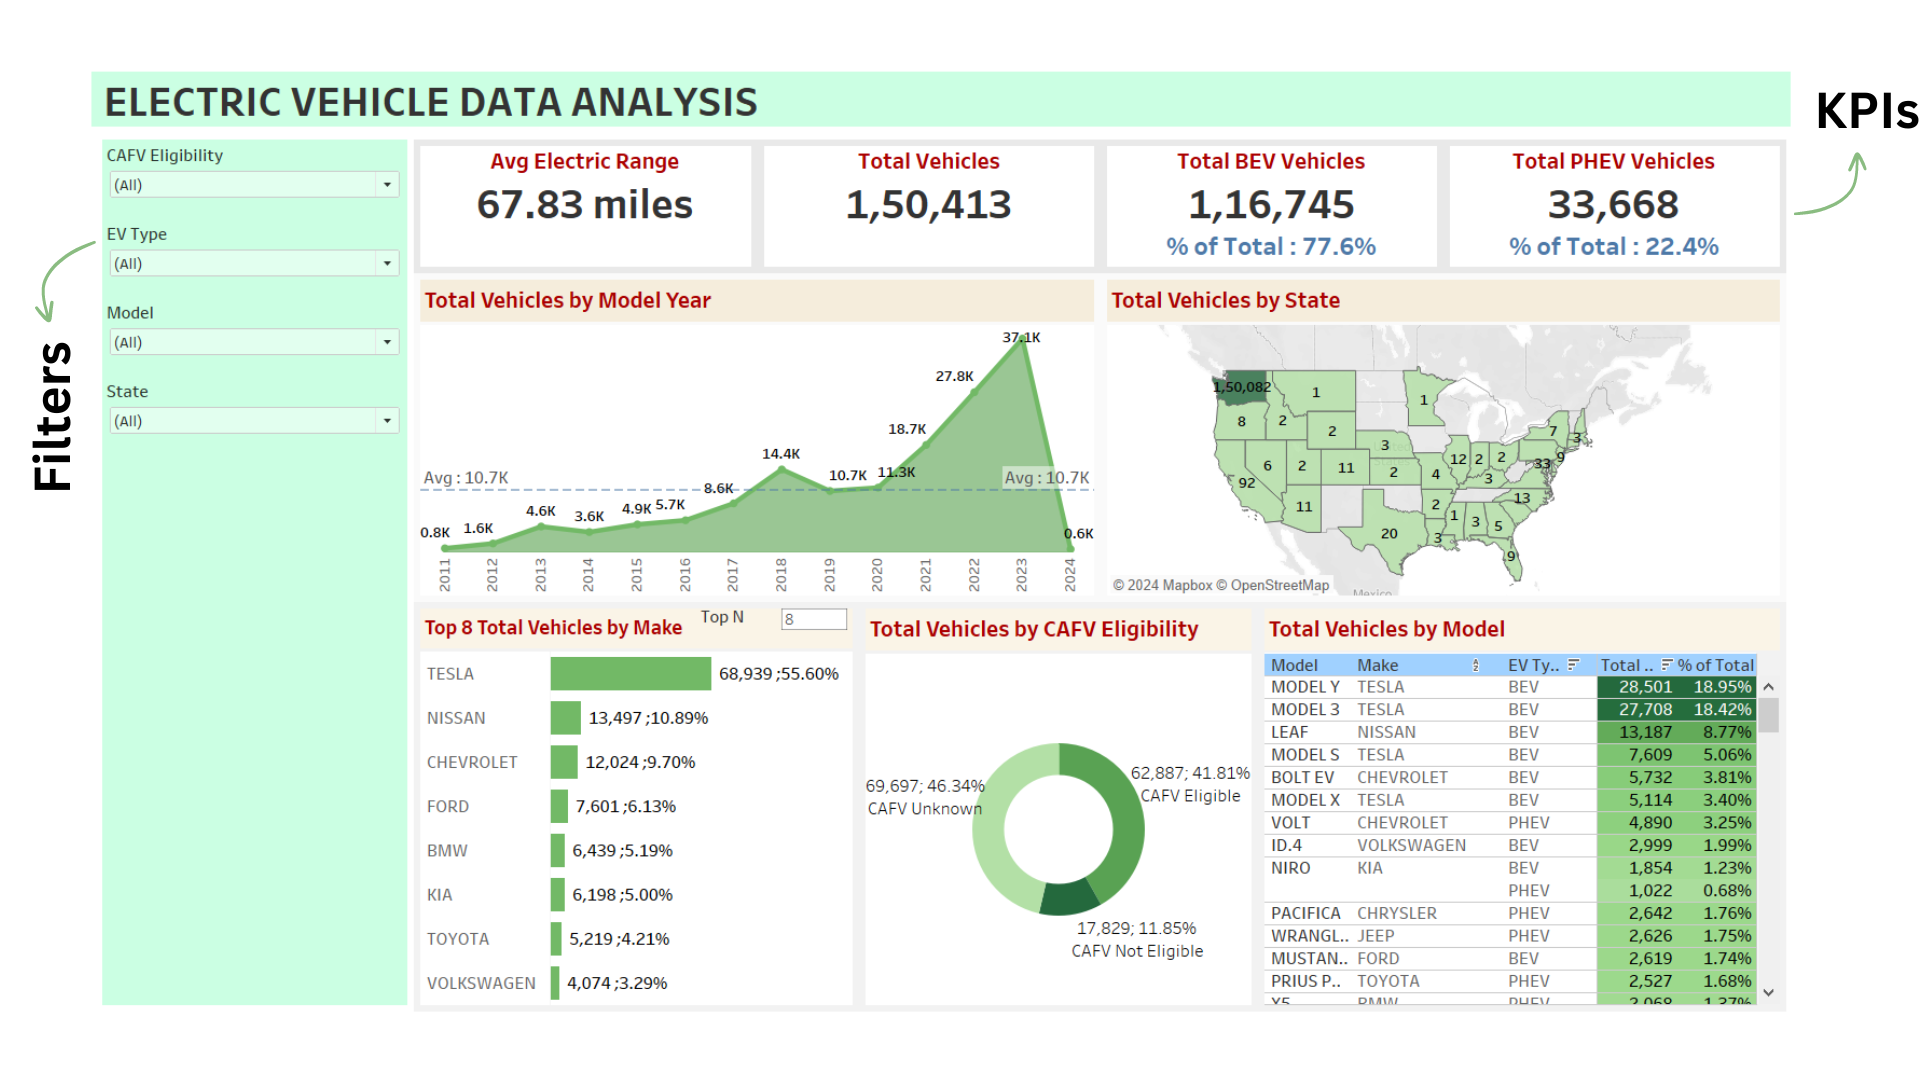

The page's visual inventory and layout, read from the dashboard file:
{"tool":"tableau","page":{"name":"Dashboard 1","canvas":[1600,900],"ordinal":0},"visuals":[{"type":"title","box":[8,8,1584,59.2]},{"type":"filter","title":"Total Vehicles by Model Year","param":"[federated.1awhdub1da7tum1af50ky1ltuime].[none:Clean Alternative Fuel Vehicle (C","box":[22,75,283,73]},{"type":"worksheet","title":"Avg Electric Range","mark":"Automatic","box":[311,75,319,124]},{"type":"worksheet","title":"Total Vehicles","mark":"Automatic","box":[630,75,318,124]},{"type":"worksheet","title":"Total BEV Vehicles","mark":"Automatic","box":[948,75,318,124]},{"type":"worksheet","title":"Total PHEV Vehicles","mark":"Automatic","box":[1266,75,318,124]},{"type":"filter","title":"Total Vehicles by Model Year","param":"[federated.1awhdub1da7tum1af50ky1ltuime].[none:Electric Vehicle Type:nk]","box":[22,148,283,73]},{"type":"worksheet","title":"Total Vehicles by Model Year","mark":"Area","rows":["Calculation_1452692418991345664","Calculation_1452692418991345664"],"cols":["Model Year"],"box":[311,199.2,637,304.8]},{"type":"worksheet","title":"Total Vehicles by State","mark":"Multipolygon","box":[948,199.2,636,304.8]},{"type":"filter","title":"Total Vehicles by Model Year","param":"[federated.1awhdub1da7tum1af50ky1ltuime].[none:Model:nk]","box":[22,221,283,73]},{"type":"filter","title":"Total Vehicles by Model Year","param":"[federated.1awhdub1da7tum1af50ky1ltuime].[none:State:nk]","box":[22,294,283,73]},{"type":"blank","box":[22,367,283,73]},{"type":"blank","box":[22,440,283,73]},{"type":"worksheet","title":"Top 10 Total Vehicles by Make","mark":"Automatic","rows":["Make"],"cols":["Calculation_1452692418991345664"],"box":[311,504,413,380]},{"type":"worksheet","title":"Total Vehicles by CAFV Eligibility","mark":"Pie","rows":["Calculation_1452692419028488199","Calculation_1452692419028488199"],"box":[724,504,370,380]},{"type":"worksheet","title":"Total Vehicles by Model","mark":"Square","rows":["Model","Make","Electric Vehicle Type"],"box":[1094,504,490,380]},{"type":"parameter","param":"[Parameters].[Parameter 1]","box":[577,507,139,38]},{"type":"blank","box":[22,513,283,73]},{"type":"blank","box":[22,586,283,73]},{"type":"blank","box":[22,659,283,73]},{"type":"blank","box":[22,732,283,73]},{"type":"blank","box":[22,805,283,73]}]}

Visuals, with their boxes in screenshot pixels (x1, y1, x2, y2), scaled from the page's 1600x900 canvas onto the 1920x1080 screenshot:
title: <region>10, 10, 1910, 81</region>
"Total Vehicles by Model Year" filter: <region>26, 90, 366, 178</region>
"Avg Electric Range" worksheet: <region>373, 90, 756, 239</region>
"Total Vehicles" worksheet: <region>756, 90, 1138, 239</region>
"Total BEV Vehicles" worksheet: <region>1138, 90, 1519, 239</region>
"Total PHEV Vehicles" worksheet: <region>1519, 90, 1901, 239</region>
"Total Vehicles by Model Year" filter: <region>26, 178, 366, 265</region>
"Total Vehicles by Model Year" worksheet (Area marks): <region>373, 239, 1138, 605</region>
"Total Vehicles by State" worksheet (Multipolygon marks): <region>1138, 239, 1901, 605</region>
"Total Vehicles by Model Year" filter: <region>26, 265, 366, 353</region>
"Total Vehicles by Model Year" filter: <region>26, 353, 366, 440</region>
blank: <region>26, 440, 366, 528</region>
blank: <region>26, 528, 366, 616</region>
"Top 10 Total Vehicles by Make" worksheet: <region>373, 605, 869, 1061</region>
"Total Vehicles by CAFV Eligibility" worksheet (Pie marks): <region>869, 605, 1313, 1061</region>
"Total Vehicles by Model" worksheet (Square marks): <region>1313, 605, 1901, 1061</region>
parameter: <region>692, 608, 859, 654</region>
blank: <region>26, 616, 366, 703</region>
blank: <region>26, 703, 366, 791</region>
blank: <region>26, 791, 366, 878</region>
blank: <region>26, 878, 366, 966</region>
blank: <region>26, 966, 366, 1054</region>
